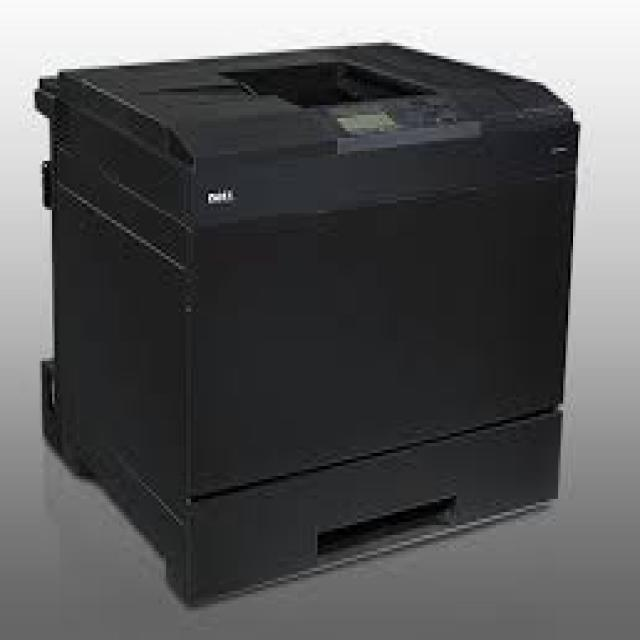printer: (32, 40, 580, 608)
